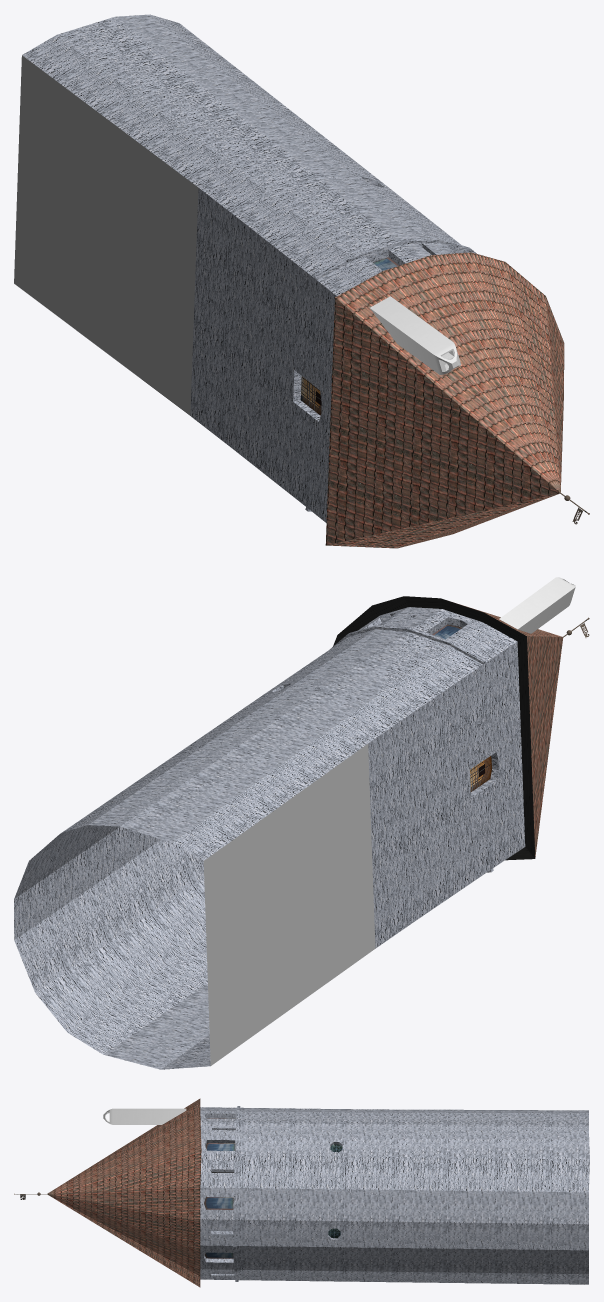
File: Myyrivahe_48.obj
3 renders of one model, top to bottom at view 1: azimuth 30°, elevation 25°; view 2: azimuth 150°, elevation 25°; view 3: azimuth 270°, elevation 25°, orthographic. The views are drawn at different scales.
Visible parts, largest first — view 1: myyrivahe_48, xxx; view 2: myyrivahe_48, xxx; view 3: myyrivahe_48.
Part boxes in pixels (x1,y1,x2,y2): myyrivahe_48: [22, 14, 589, 548]; xxx: [14, 55, 198, 415]; myyrivahe_48: [14, 577, 589, 1069]; xxx: [203, 744, 375, 1065]; myyrivahe_48: [14, 1098, 589, 1287].
Bounding box in the file's own units: 9.48 × 10.59 × 33.59.
